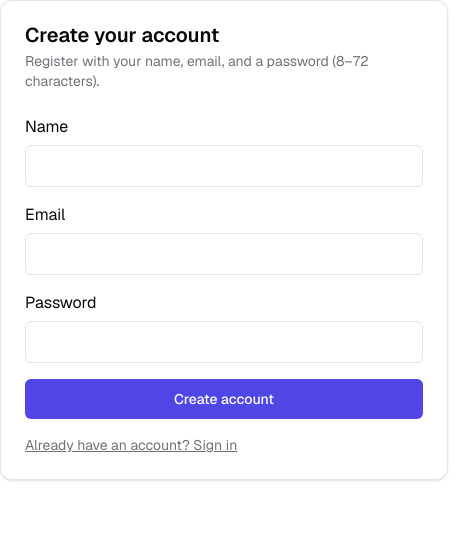
it: preserves name and email but clears the password on failure
Type "Ada Lovelace" into the field labelled "Name".
click(224, 166); type("Ada Lovelace")  # box [25, 145, 423, 187]
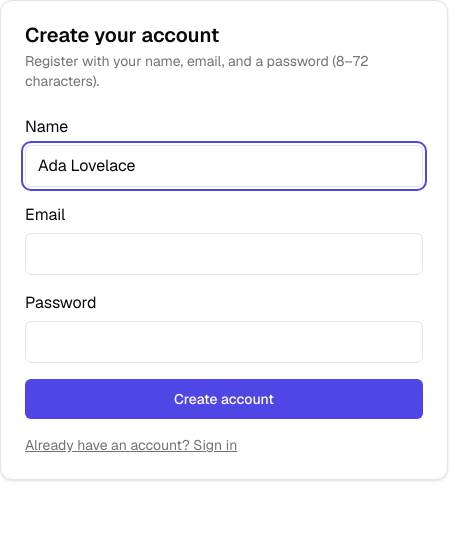
Type "preserve@test.local" into the field labelled "Email".
click(224, 254); type("preserve@test.local")  # box [25, 233, 423, 275]
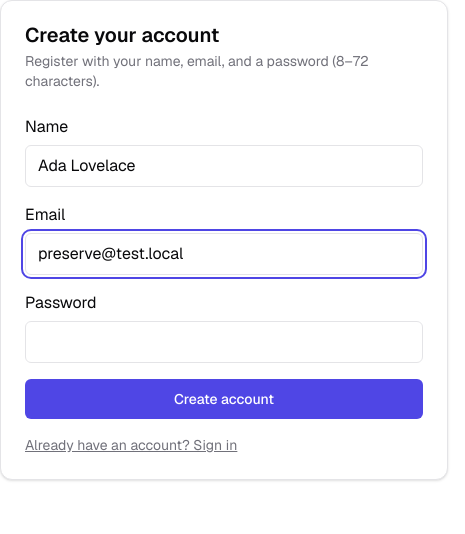
Type "supersafe99" into the password field labelled "Password".
click(224, 342); type("supersafe99")  # box [25, 321, 423, 363]
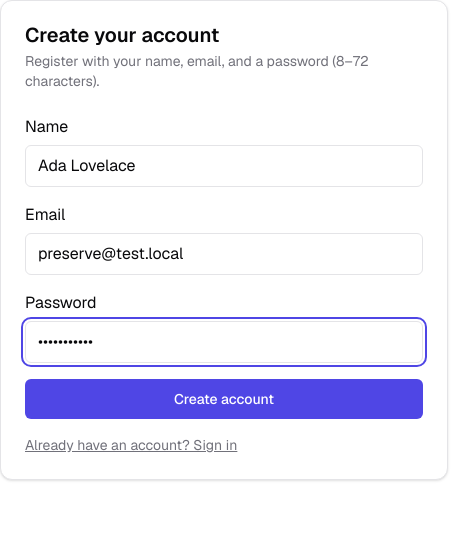
Click the button "Create account".
click(224, 399)  # box [25, 379, 423, 419]
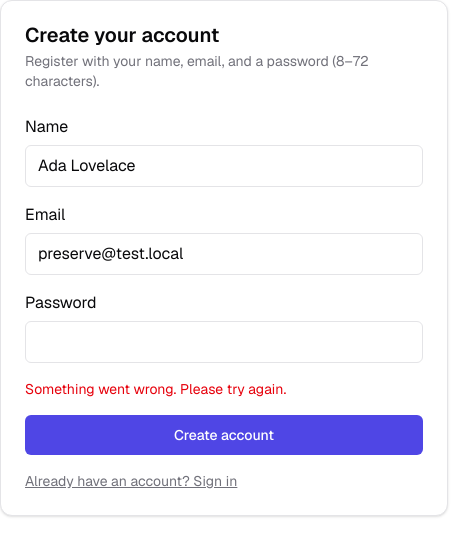
Expected: the text "Something went wrong. Please try again." is shown, [25, 380, 286, 398]
Expected: the password field labelled "Password" is empty, [25, 321, 423, 363]
